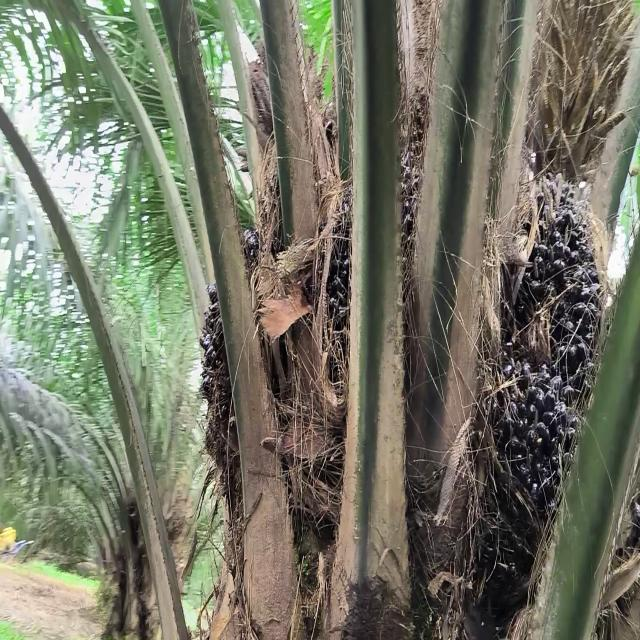palm-oil: (486, 160, 604, 457), (452, 357, 568, 636), (325, 149, 420, 448), (195, 225, 286, 516)
